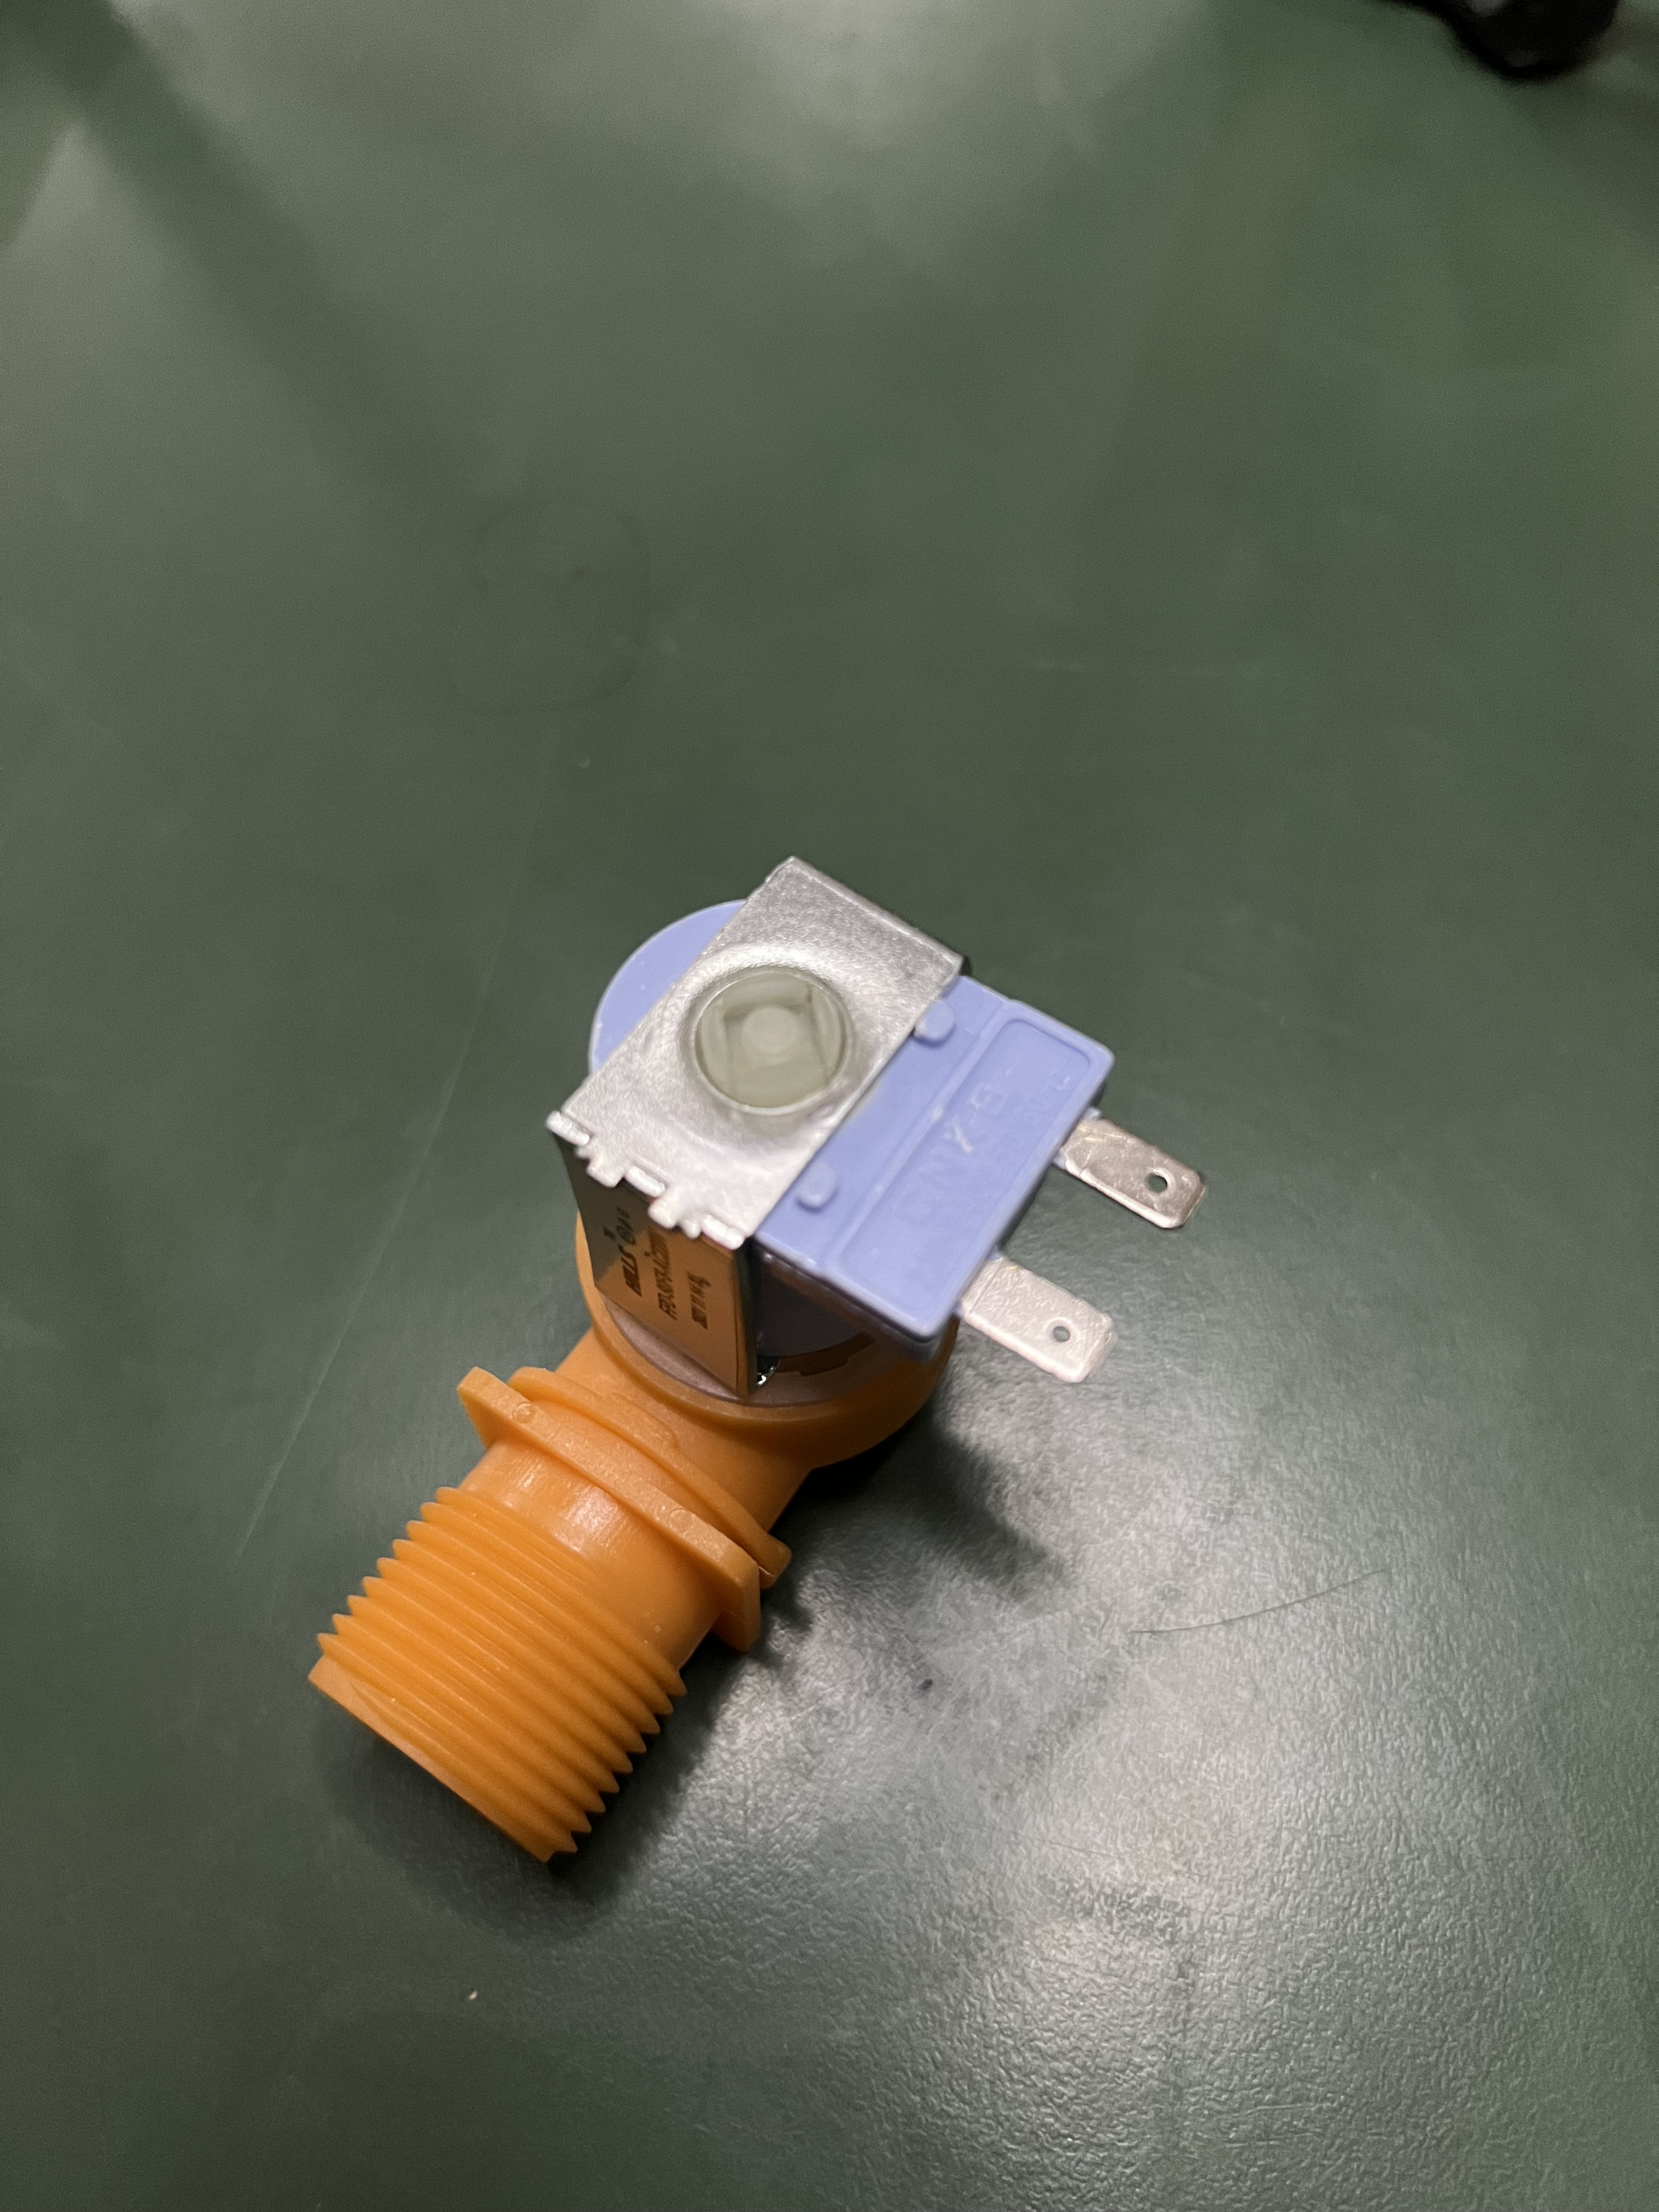ss_inlet_valves: (272, 843, 1234, 1900)
